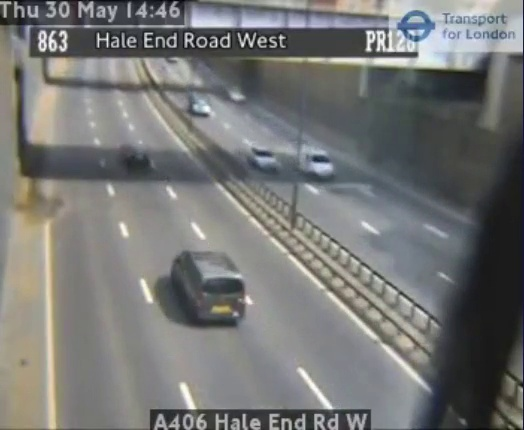van: (174, 251, 247, 323)
